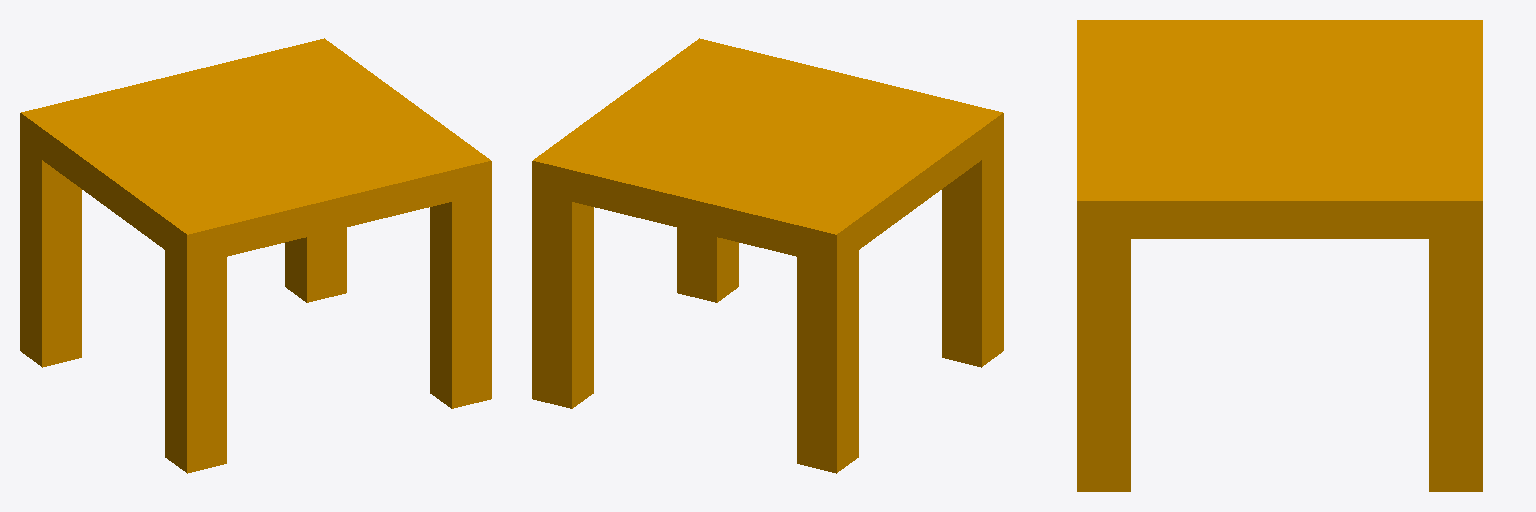
The robot description file, URDF, robot "taskTable2":
<?xml version="1.0"?>
<!-- created with Phobos 1.0.1 "Capricious Choutengan" -->
  <robot name="taskTable2">

    <link name="taskTable2_root">
      <inertial>
        <origin xyz="0 0 0" rpy="0 0 0"/>
        <mass value="0.001"/>
        <inertia ixx="0.001" ixy="0" ixz="0" iyy="0.001" iyz="0" izz="0.001"/>
      </inertial>
      <visual name="Cube">
        <origin xyz="0 0 0" rpy="0 0 0"/>
        <geometry>
          <mesh filename="..\meshes\dae\Cube.001.dae" scale="0.3 0.285 1.0"/>
        </geometry>
      </visual>
      <collision name="Cube.000">
        <origin xyz="0 0 0" rpy="0 0 0"/>
        <geometry>
          <mesh filename="..\meshes\dae\Cube.002.dae" scale="1.0 1.0 1.0"/>
        </geometry>
      </collision>
    </link>

  </robot>

--- Render facts (derived) ---
3 views of the same robot in one strip: view 1: azimuth 30°, elevation 25°; view 2: azimuth 150°, elevation 25°; view 3: azimuth 270°, elevation 25° (orthographic).
Robot: taskTable2 — 1 links, 0 joints (none); root link taskTable2_root; default pose: every joint at zero.
Visible links, largest first — view 1: taskTable2_root; view 2: taskTable2_root; view 3: taskTable2_root.
Link boxes in pixels (x1,y1,x2,y2): taskTable2_root: [20, 38, 491, 473]; taskTable2_root: [532, 38, 1003, 473]; taskTable2_root: [1077, 20, 1482, 491].
Bounding box of the posed robot: 0.6 × 0.57 × 0.45 m (x, y, z).
Meshes: 1 distinct files referenced, 1 mesh visuals loaded (1 Collada DAE).